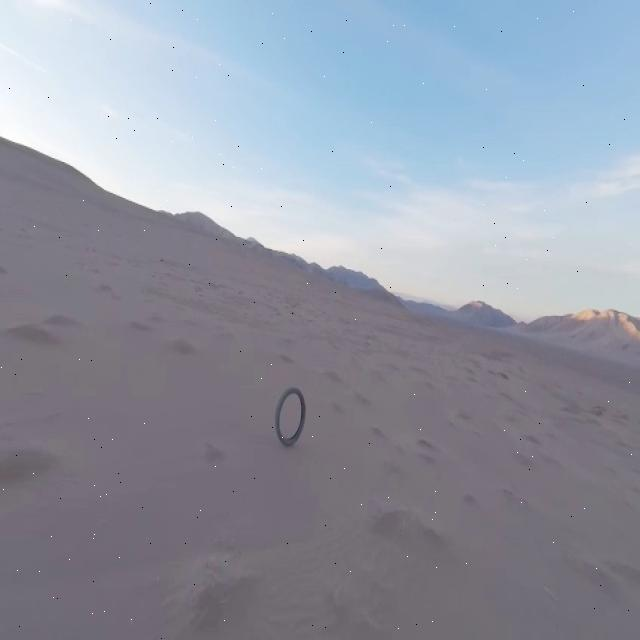Tire: (276, 387, 306, 446)
